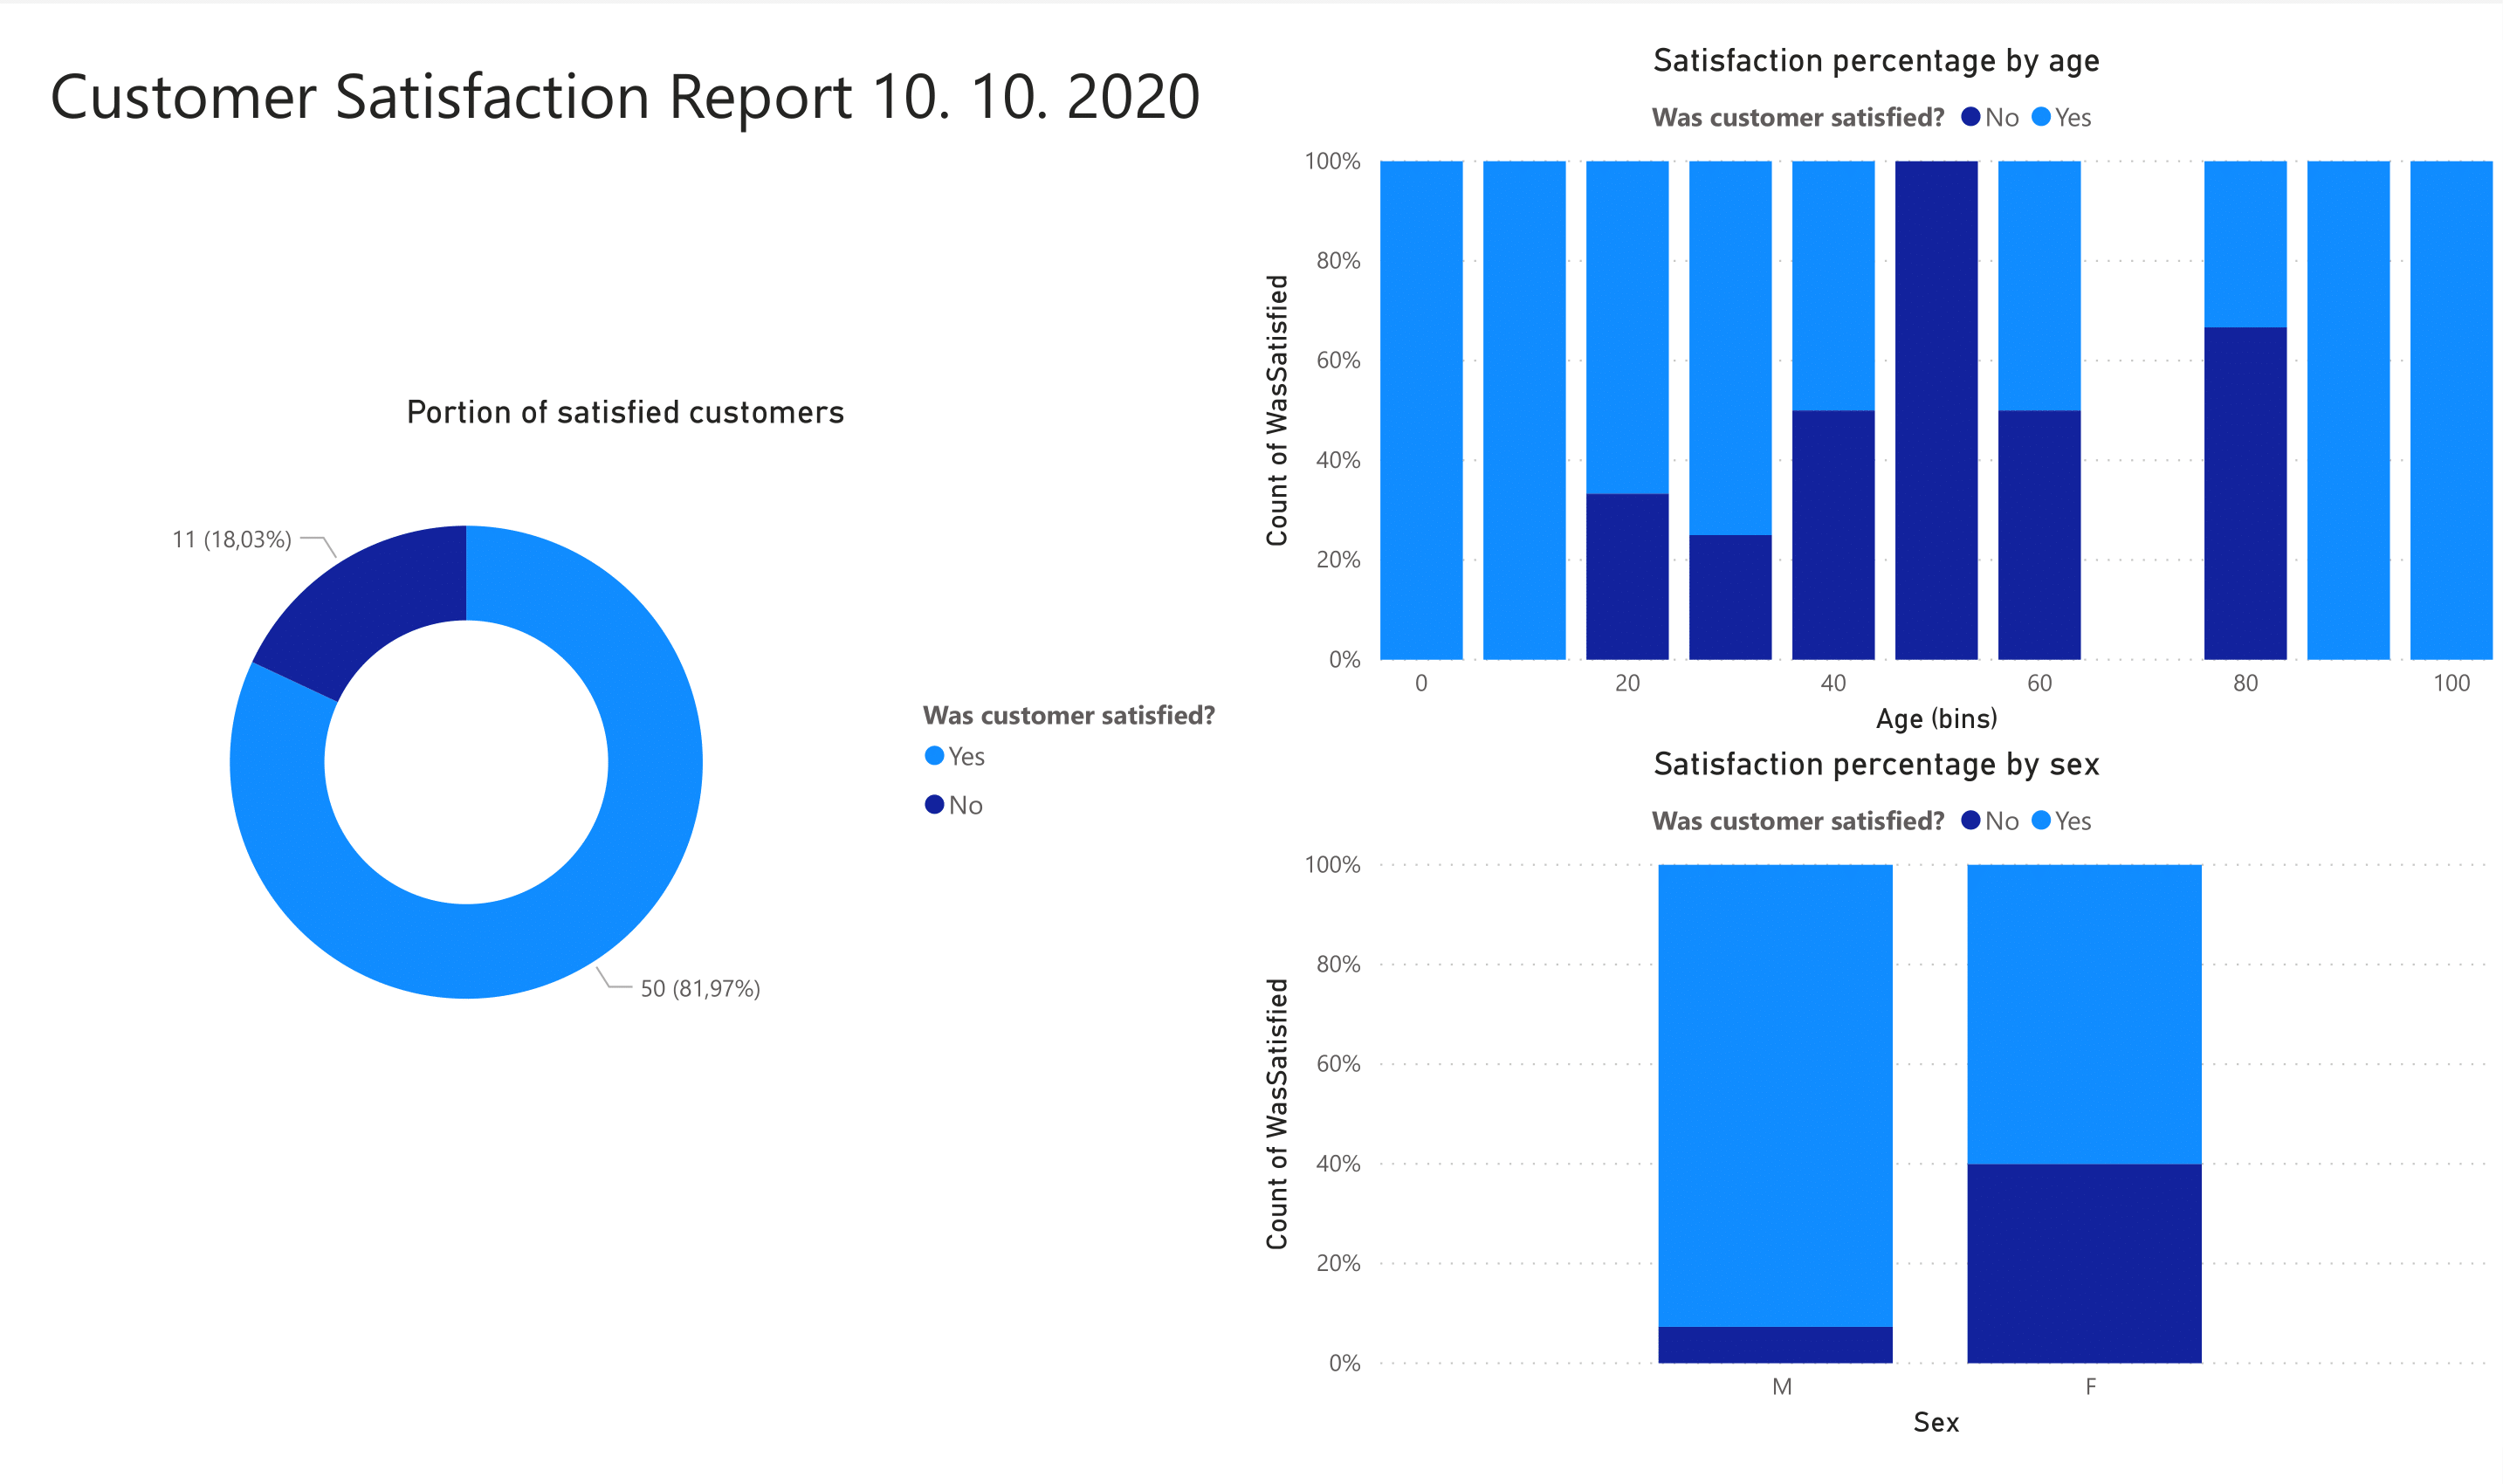

The page's visual inventory and layout, read from the dashboard file:
{"tool":"powerbi","page":{"name":"Page 1","canvas":[1280,720],"ordinal":0},"visuals":[{"type":"donutChart","title":"Portion of satisfied customers","fields":{"Series":["recruit Customers.WasSatisfied"],"Y":["CountNonNull(recruit Customers.Legend)"],"Category":["recruit Customers.Legend"]},"box":[0,179.9,640,359.9],"z":0},{"type":"hundredPercentStackedColumnChart","title":"Satisfaction percentage by age","fields":{"Category":["recruit Customers.Age (bins)"],"Y":["CountNonNull(recruit Customers.WasSatisfied)"],"Series":["recruit Customers.Legend"]},"box":[640,0,640,359.9],"z":1000},{"type":"hundredPercentStackedColumnChart","title":"Satisfaction percentage by sex","fields":{"Category":["recruit Customers.Sex"],"Y":["CountNonNull(recruit Customers.WasSatisfied)"],"Series":["recruit Customers.Legend"]},"box":[640,359.9,640,359.9],"z":2000},{"type":"actionButton","box":[0,0,100,40],"z":3000},{"type":"textbox","box":[0,0,640,57.4],"z":4000}]}

Visuals, with their boxes on the page's 1280x720 design canvas (x1, y1, x2, y2). These are canvas units, not pixel positions in the 2503x1484 screenshot, which may show the page scaled, cropped or inside an application window:
"Portion of satisfied customers" donutChart: x1=0, y1=180, x2=640, y2=540
"Satisfaction percentage by age" hundredPercentStackedColumnChart: x1=640, y1=0, x2=1280, y2=360
"Satisfaction percentage by sex" hundredPercentStackedColumnChart: x1=640, y1=360, x2=1280, y2=720
actionButton: x1=0, y1=0, x2=100, y2=40
textbox: x1=0, y1=0, x2=640, y2=57
